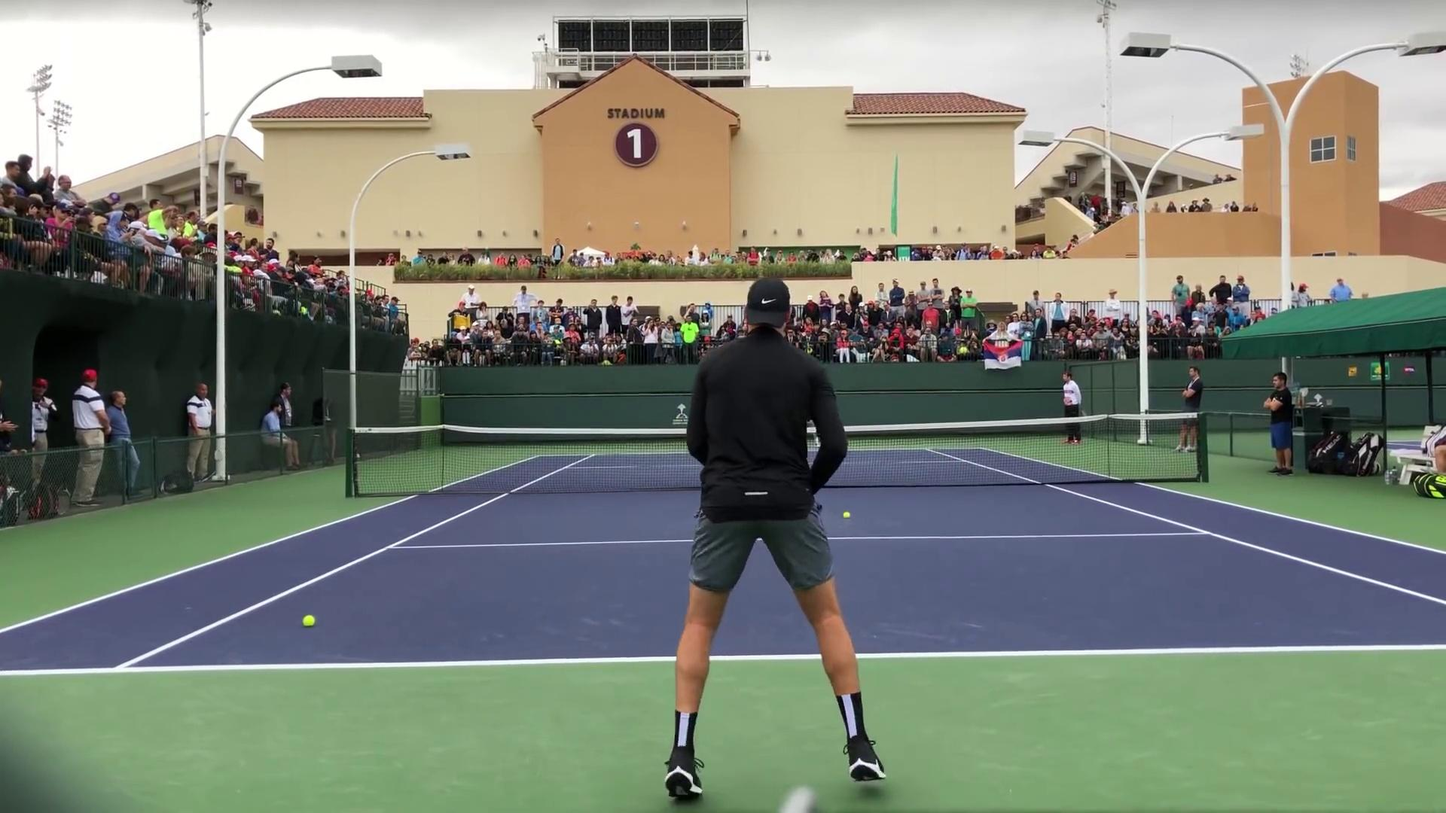ball: (301, 614, 315, 627), (842, 511, 851, 519)
